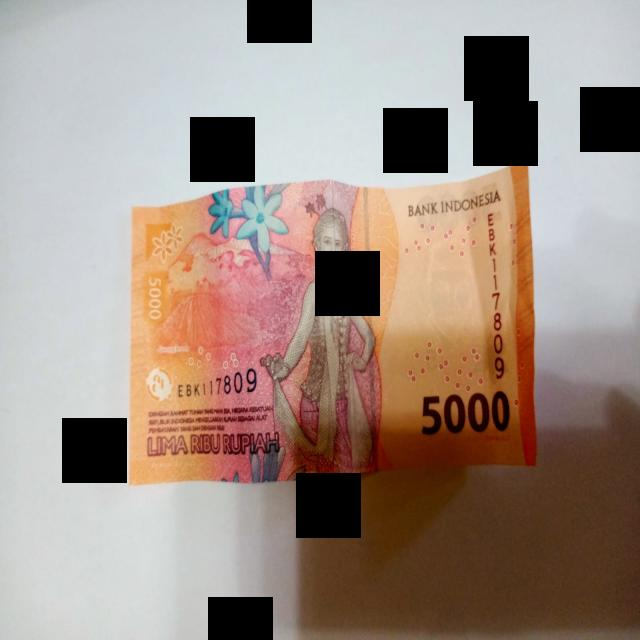lima ribu rupiah: (130, 158, 536, 484)
